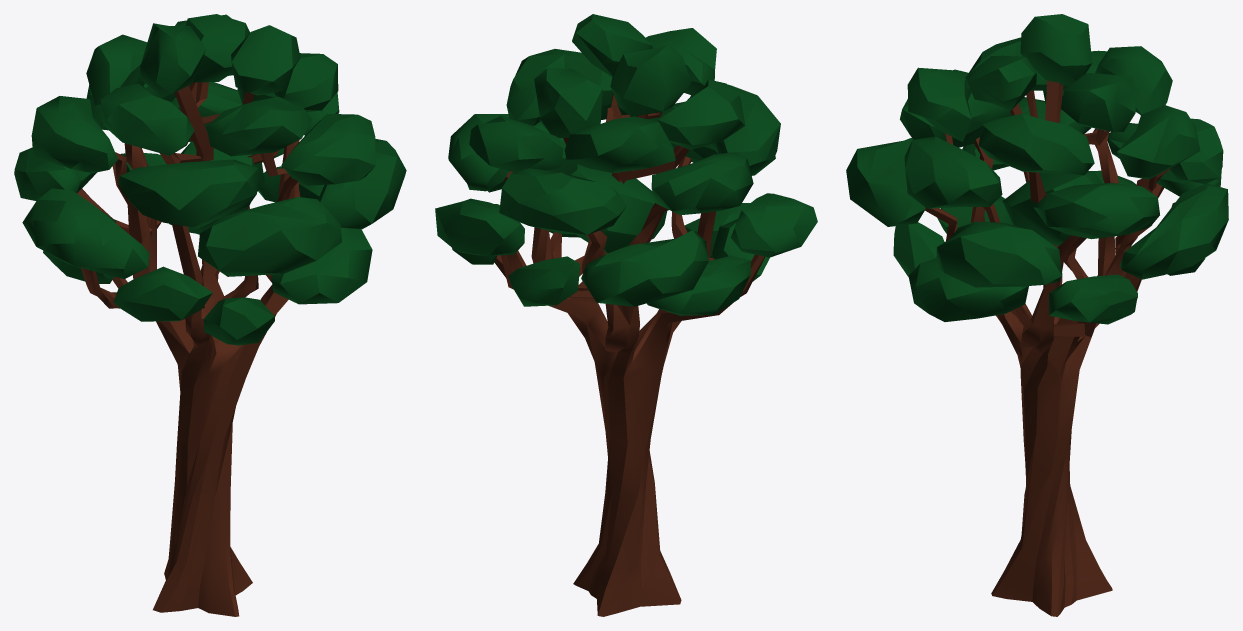
File: Tree_1_High.fbx
3 views of the same model, side by side, from view 1: azimuth 30°, elevation 25°; view 2: azimuth 150°, elevation 25°; view 3: azimuth 270°, elevation 25° (orthographic). The views are drawn at different scales.
Visible parts, largest first — view 1: Tree_1_High; view 2: Tree_1_High; view 3: Tree_1_High.
Part boxes in pixels (x1,y1,x2,y2): Tree_1_High: [14, 14, 406, 616]; Tree_1_High: [435, 14, 817, 616]; Tree_1_High: [846, 14, 1228, 616].
Bounding box in the file's own units: 161 × 253 × 157.
